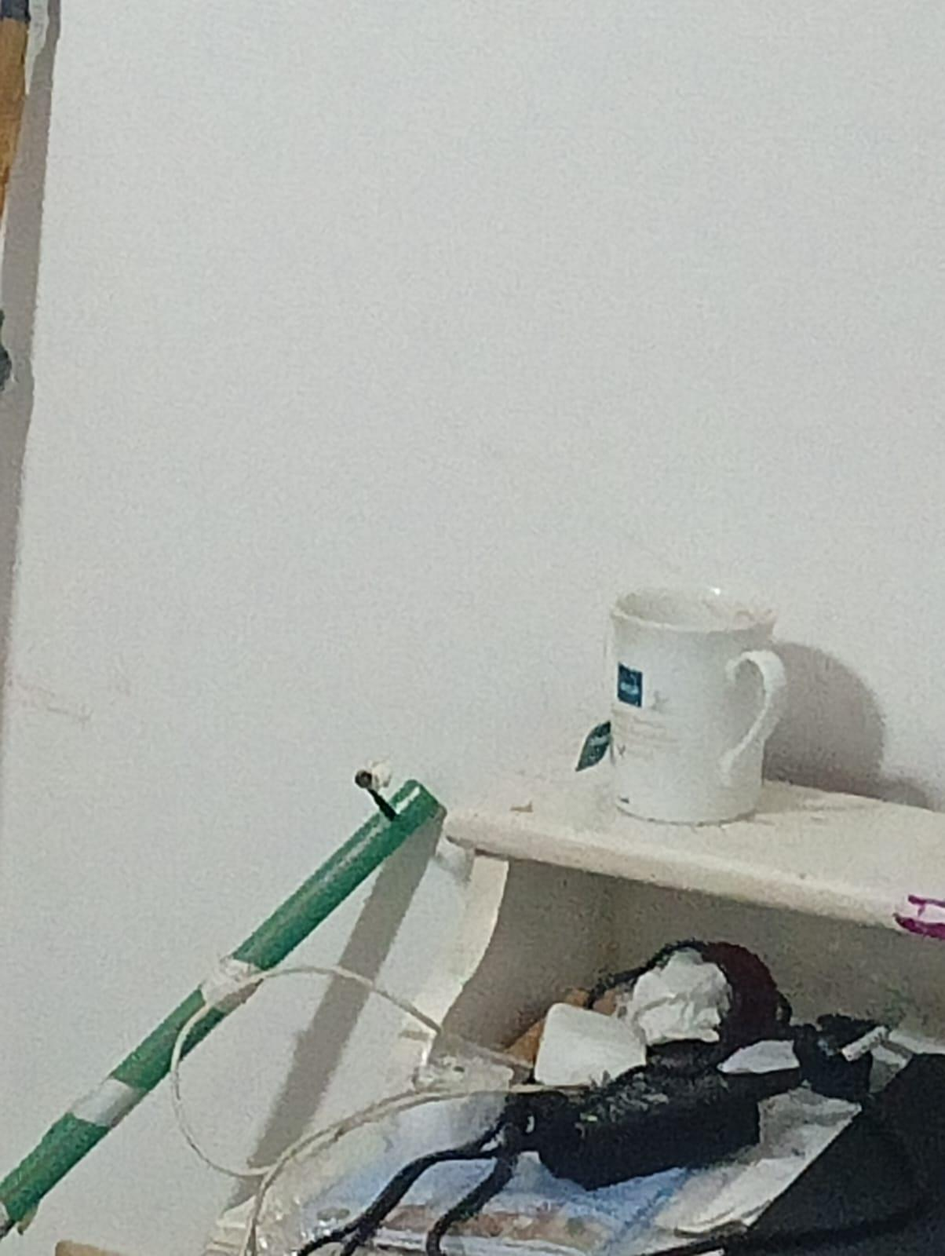cup: (611, 589, 786, 823)
